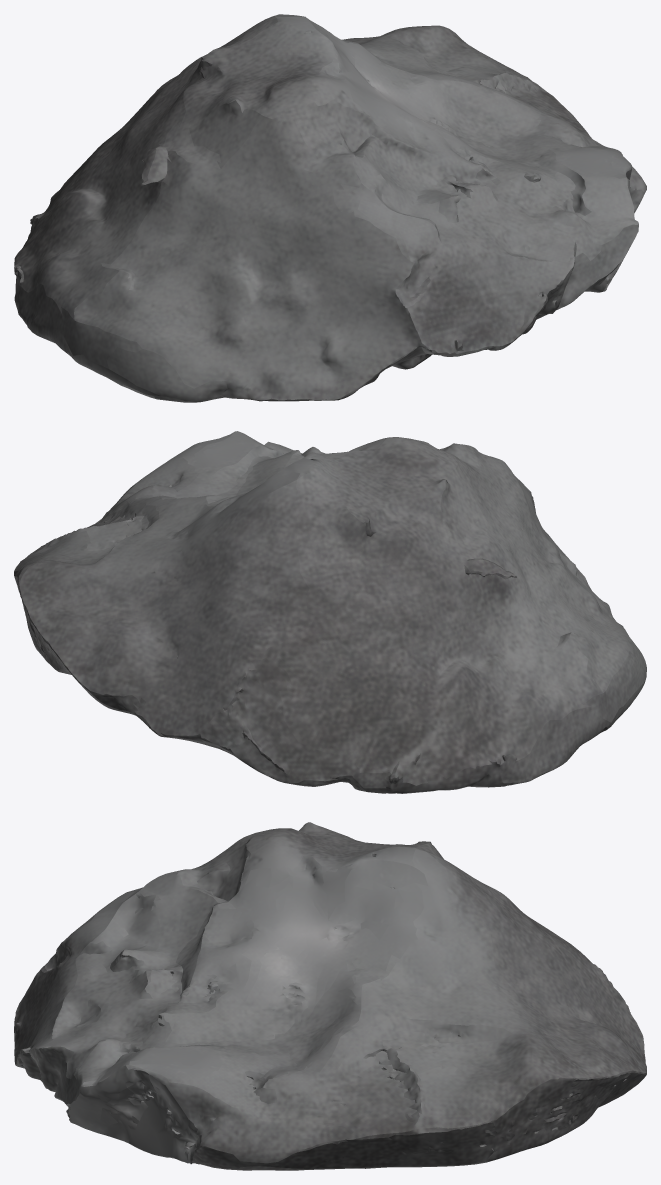
3 views of the same model, one above another, from view 1: azimuth 30°, elevation 25°; view 2: azimuth 150°, elevation 25°; view 3: azimuth 270°, elevation 25° (orthographic). The views are drawn at different scales.
Parts seen in each view (by area): view 1: world; view 2: world; view 3: world.
Boxes of the visible parts, x1,y1,x2,y2 form: world: (14,14,646,402); world: (14,431,646,793); world: (14,822,646,1170).
Size of the model in its own units: 2.5 by 1.12 by 2.5.
1 material, 1 textured.
